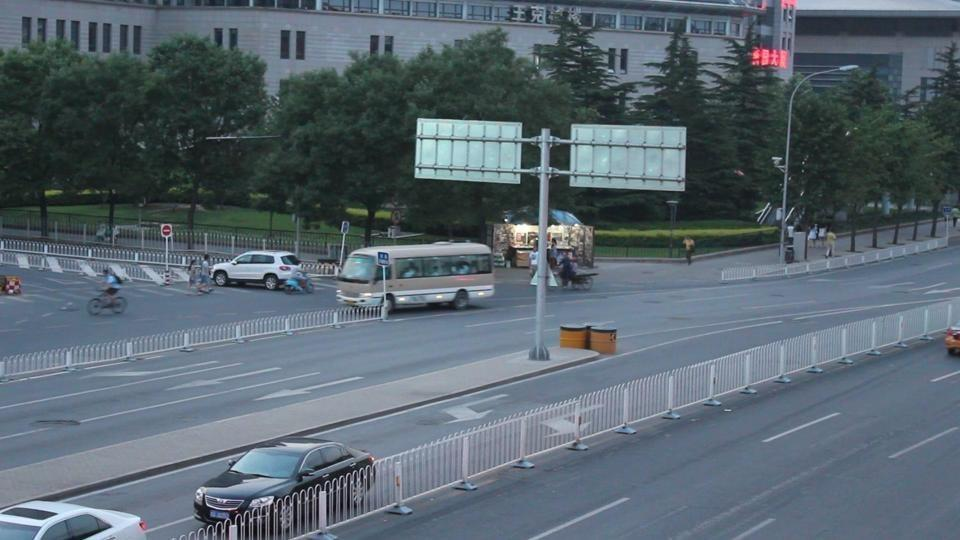car: (192, 439, 376, 525), (1, 496, 148, 539), (209, 250, 310, 290), (945, 324, 960, 355)
